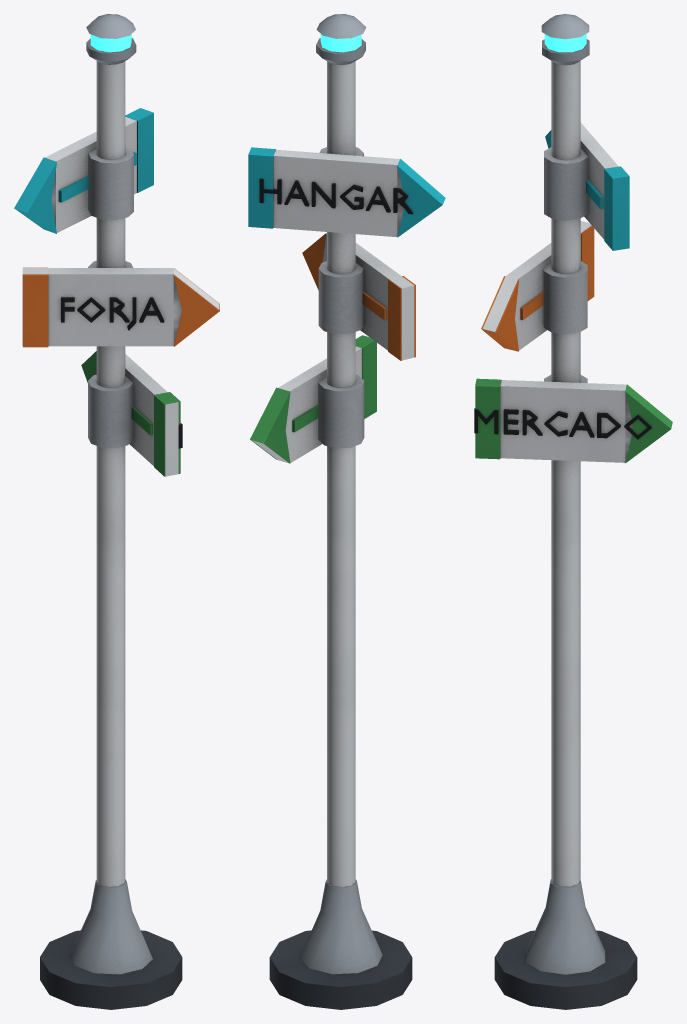
File: poste_indicador.fbx
The picture shows the model from 3 angles, left to right: view 1: azimuth 30°, elevation 25°; view 2: azimuth 150°, elevation 25°; view 3: azimuth 270°, elevation 25°; orthographic projection.
Parts seen in each view (by area): view 1: poste_indicador, poste_indicador_neon; view 2: poste_indicador, poste_indicador_neon; view 3: poste_indicador, poste_indicador_neon.
Part boxes in pixels (x1,y1,x2,y2): poste_indicador: (14, 14, 219, 1009); poste_indicador_neon: (90, 34, 131, 52); poste_indicador: (248, 14, 445, 1009); poste_indicador_neon: (320, 34, 361, 52); poste_indicador: (474, 14, 672, 1009); poste_indicador_neon: (544, 34, 586, 52).
Size of the model in its own units: 0.9546 by 5.08 by 0.9484.
Materials: 2 (2 with a texture image).
